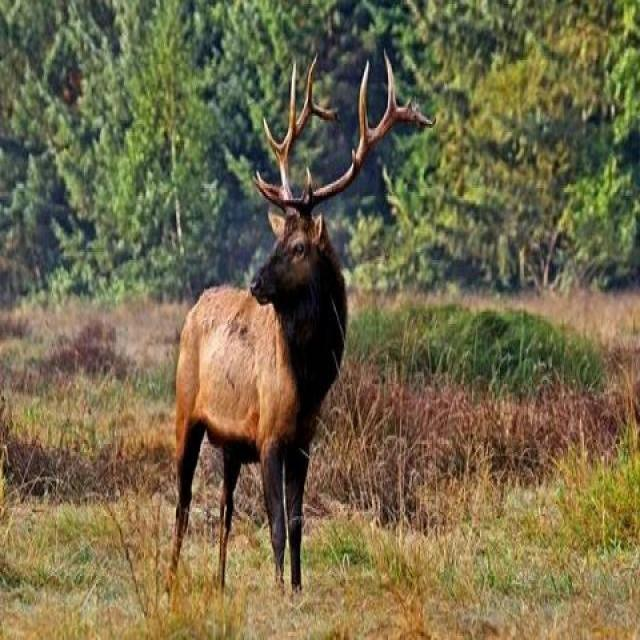deer: (166, 74, 422, 579)
